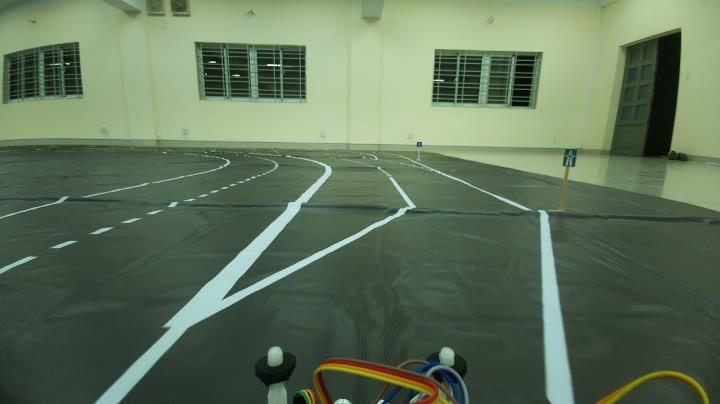highway_entry: (558, 142, 581, 171)
